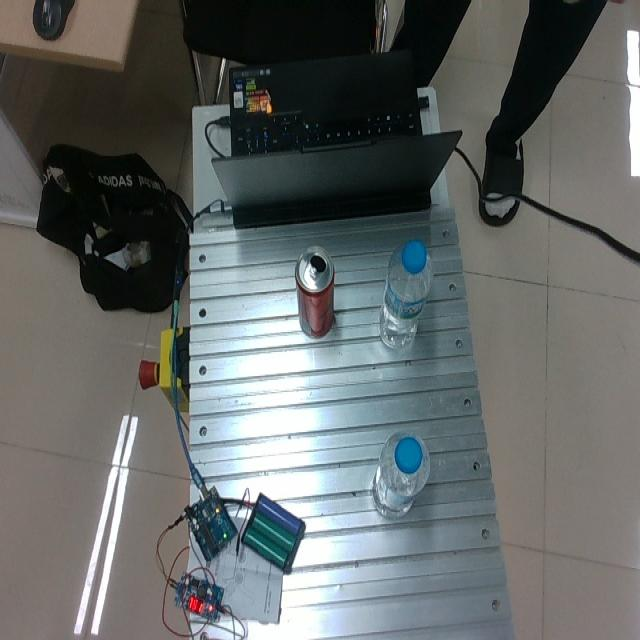coca: (294, 244, 335, 337)
lavie: (377, 240, 434, 351), (371, 432, 429, 517)
